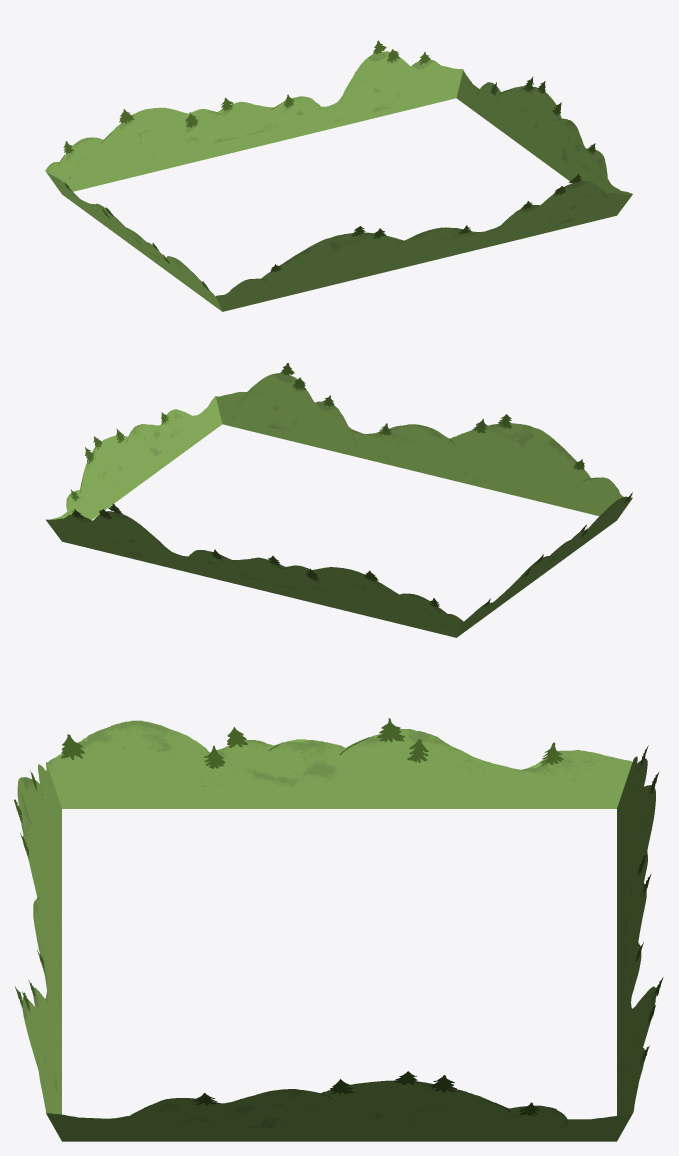
File: hills.fbx
3 views of the same model, one above another, from view 1: azimuth 30°, elevation 25°; view 2: azimuth 150°, elevation 25°; view 3: azimuth 270°, elevation 25° (orthographic). The views are drawn at different scales.
Parts seen in each view (by area): view 1: Plane001; view 2: Plane001; view 3: Plane001.
Boxes of the visible parts, x1,y1,x2,y2 form: Plane001: (45, 40, 632, 311); Plane001: (46, 363, 632, 637); Plane001: (14, 718, 663, 1141).
Size of the model in its own units: 193 by 26.27 by 136.
1 material, 1 textured.
